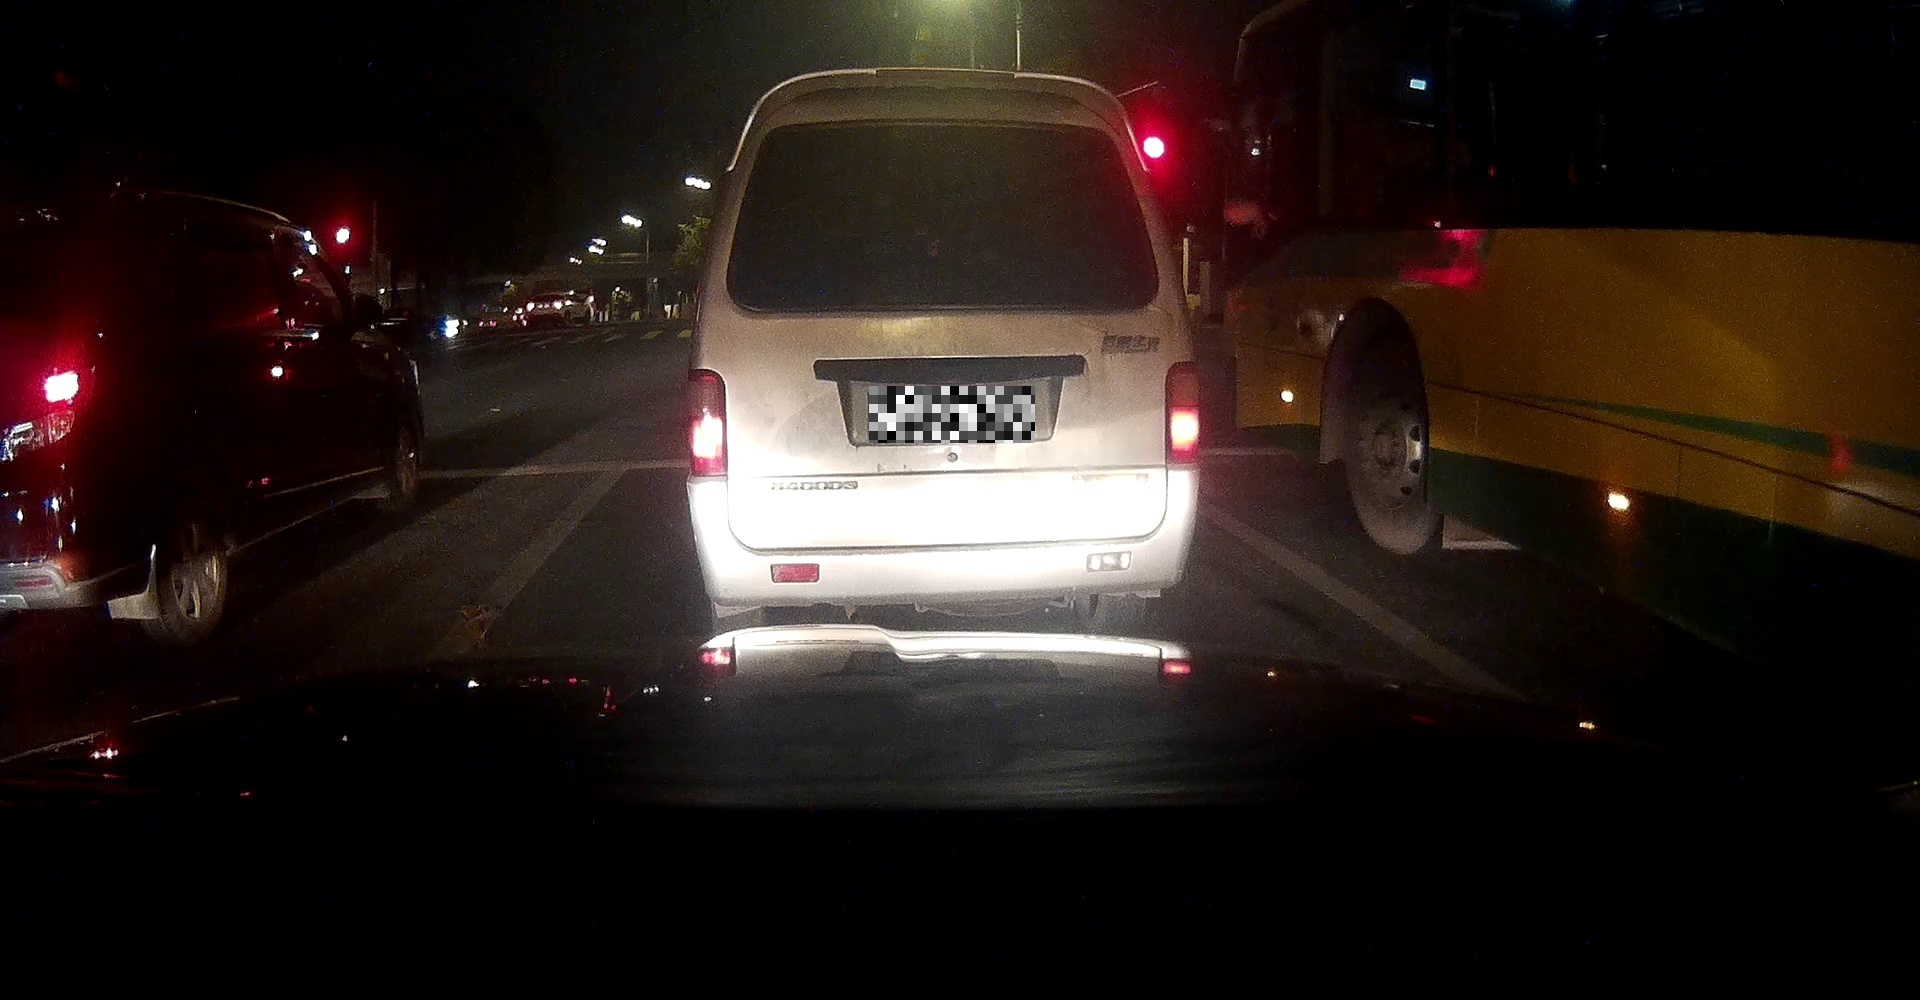L_light: (686, 368, 728, 477)
R_light: (1164, 360, 1199, 464)
T_light: (908, 121, 977, 137)
night-no: (686, 67, 1201, 637)
plate_1: (869, 386, 1035, 443)
